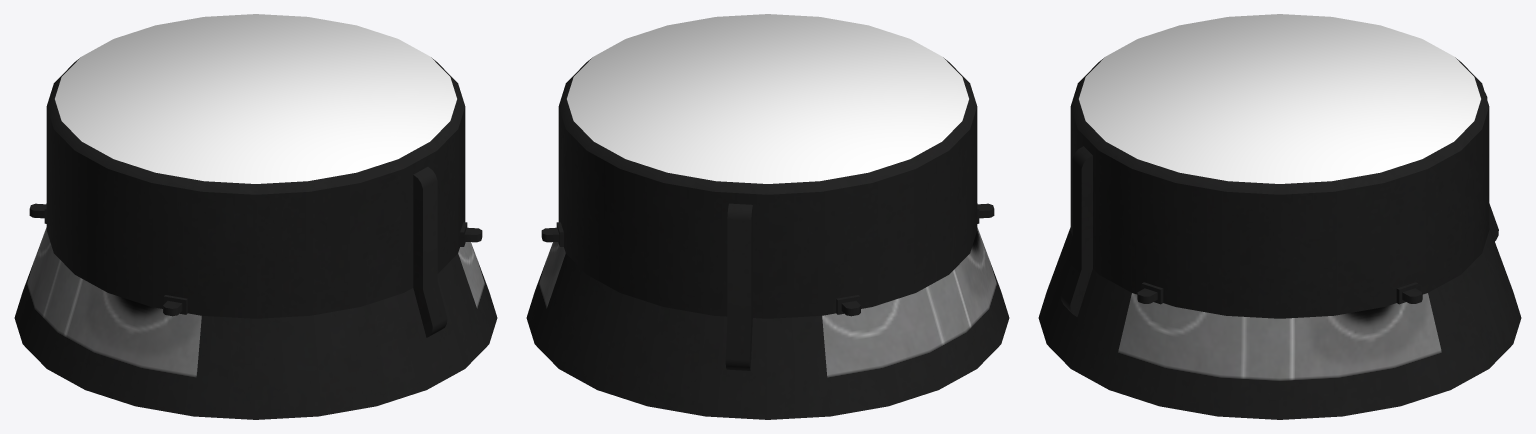
File: service_module.obj
The picture shows the model from 3 angles, left to right: view 1: azimuth 30°, elevation 25°; view 2: azimuth 150°, elevation 25°; view 3: azimuth 270°, elevation 25°; orthographic projection.
Visible parts, largest first — view 1: 1; view 2: 1; view 3: 1.
Part boxes in pixels (x1,y1,x2,y2): 1: (14, 14, 497, 419); 1: (526, 14, 1009, 419); 1: (1038, 14, 1521, 419).
Size of the model in its own units: 1.5 by 0.75 by 1.5.
